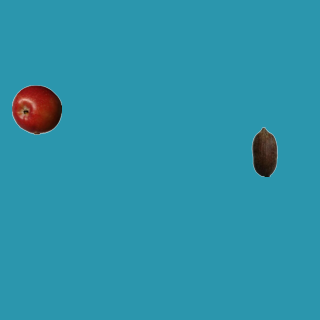Apple Braeburn: (11, 84, 61, 134)
Nut Pecan: (239, 126, 289, 176)
